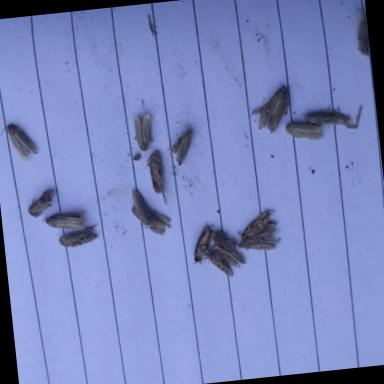pbw: (306, 106, 364, 135), (0, 122, 38, 165), (142, 150, 168, 209), (132, 203, 172, 239), (211, 229, 246, 268), (237, 208, 277, 242), (57, 224, 100, 250), (189, 226, 215, 266), (25, 188, 58, 219), (284, 119, 324, 144), (41, 210, 86, 232), (172, 128, 196, 168), (130, 187, 153, 225), (206, 250, 234, 280), (132, 114, 154, 152), (238, 236, 276, 254), (354, 14, 368, 56)
